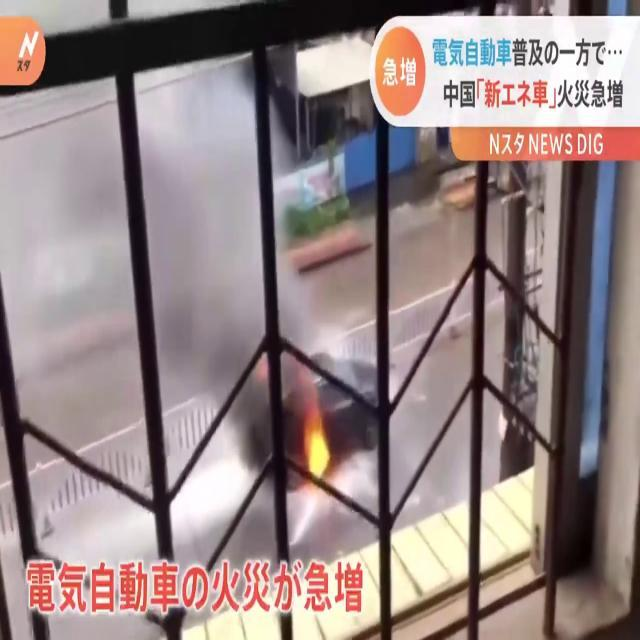Fire: (300, 400, 334, 496)
Smoke: (58, 60, 291, 478)
